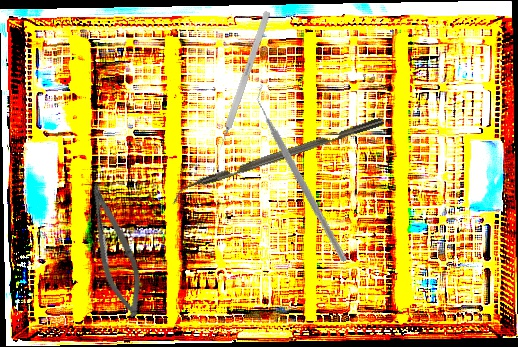Chopper: (204, 82, 403, 264), (167, 117, 388, 205)
Hook Surgical: (214, 10, 272, 157)
Micro Scissor: (73, 179, 155, 321)
